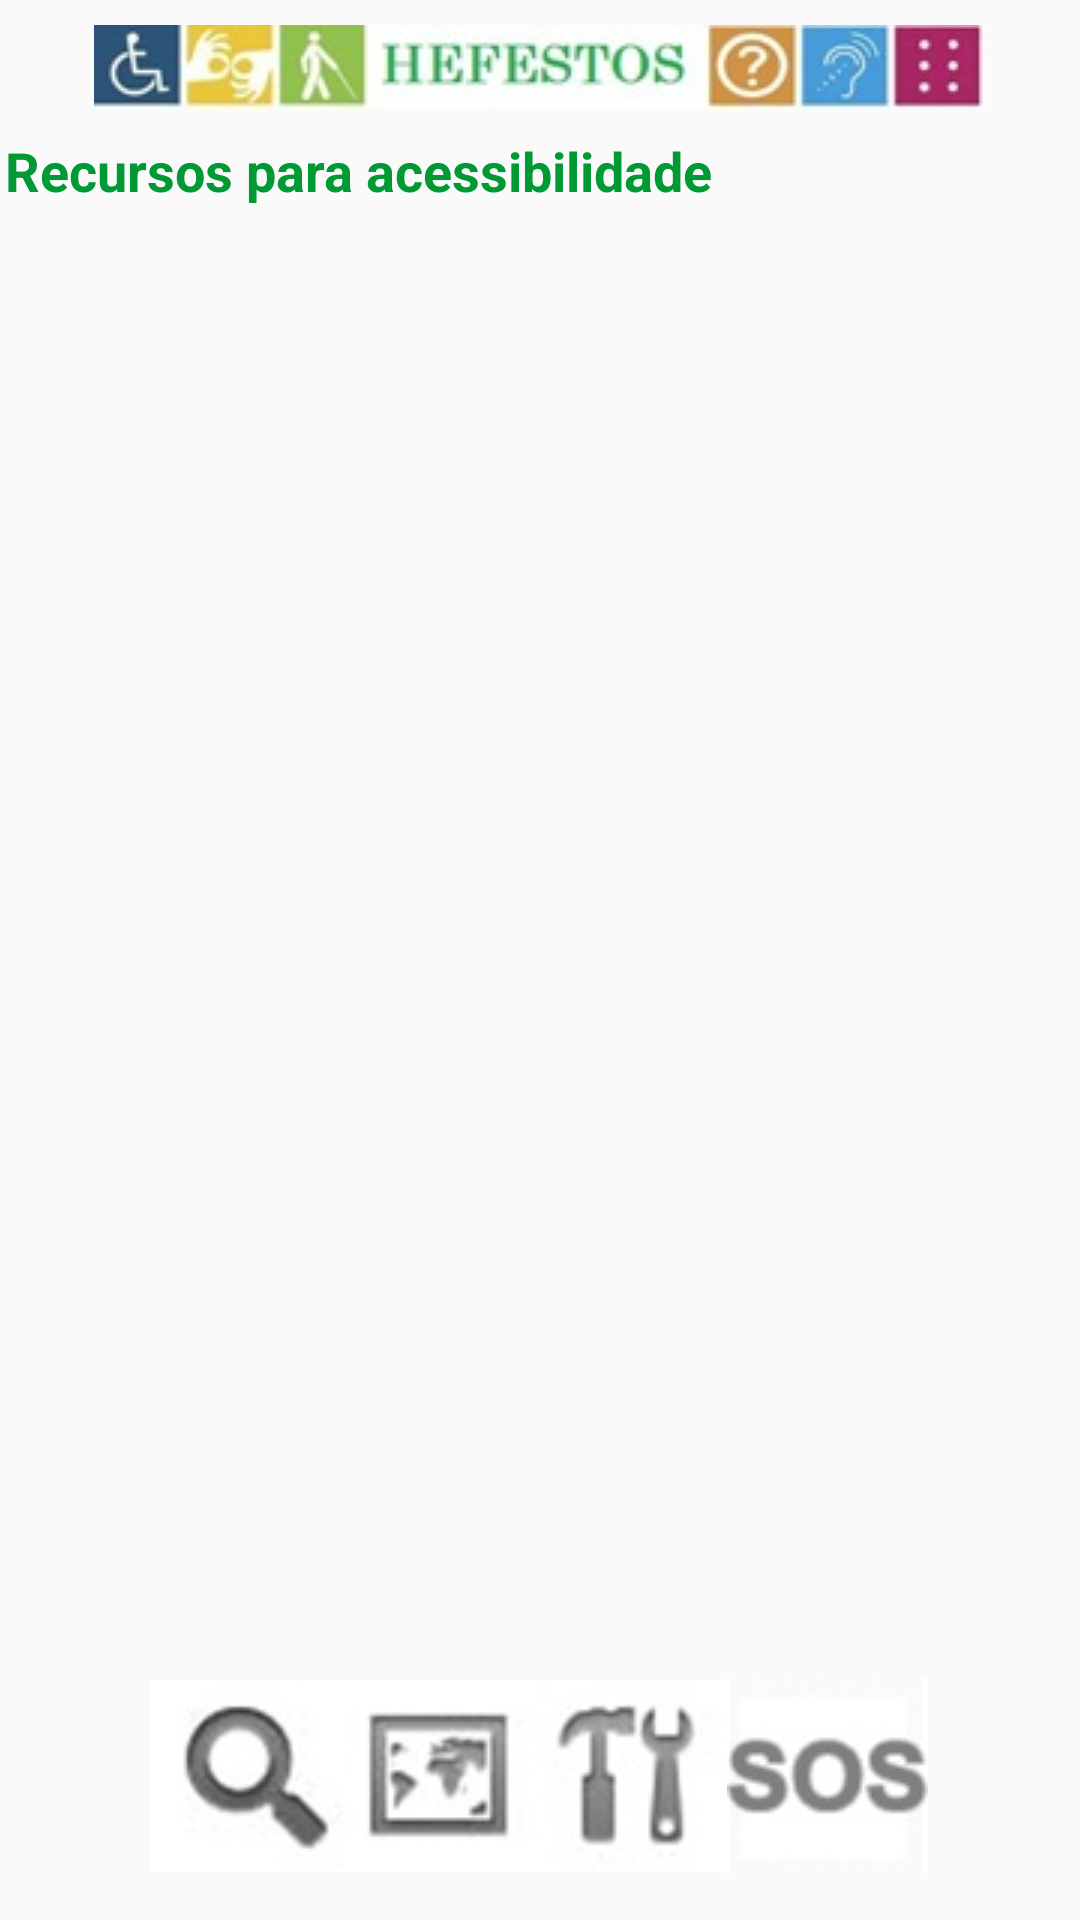

Named icons in this screenshot (1080px x 1920px) and their bounding boxes, (x1, y1, x2, y2):
map: (369, 1713, 509, 1837)
preferences: (558, 1706, 695, 1845)
search: (184, 1706, 329, 1849)
